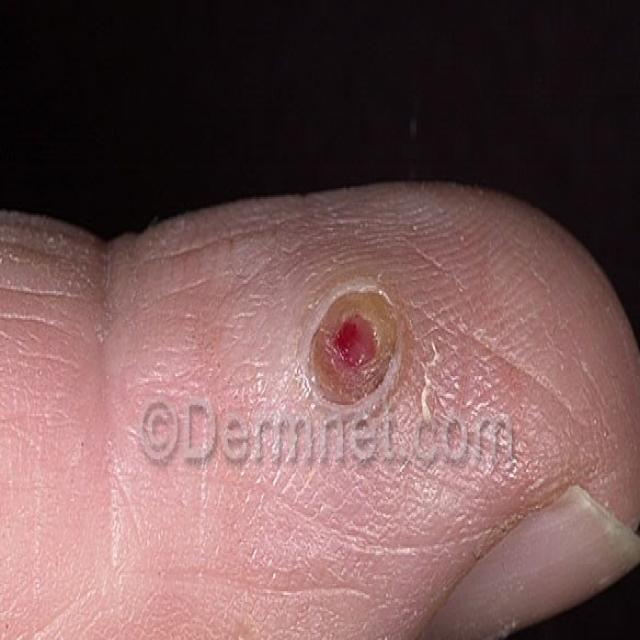Vascular Tumors: (286, 250, 411, 435)
